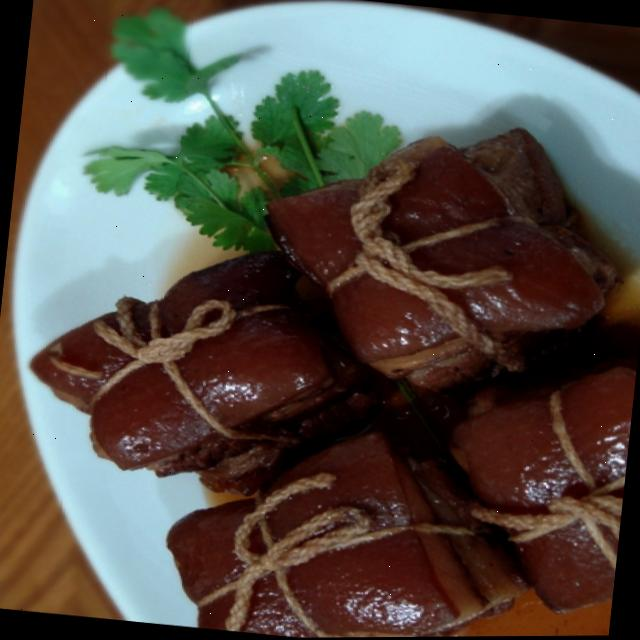牛肉菜式: (9, 77, 640, 640)
